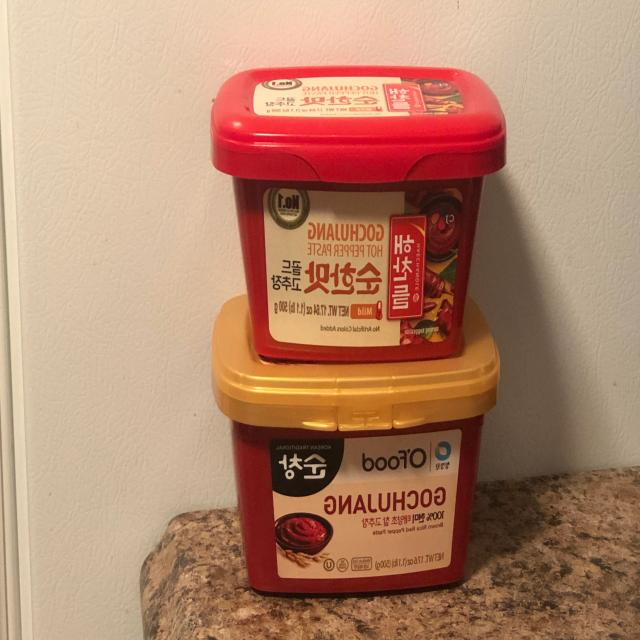plastic: (210, 302, 511, 602), (207, 62, 510, 358)
